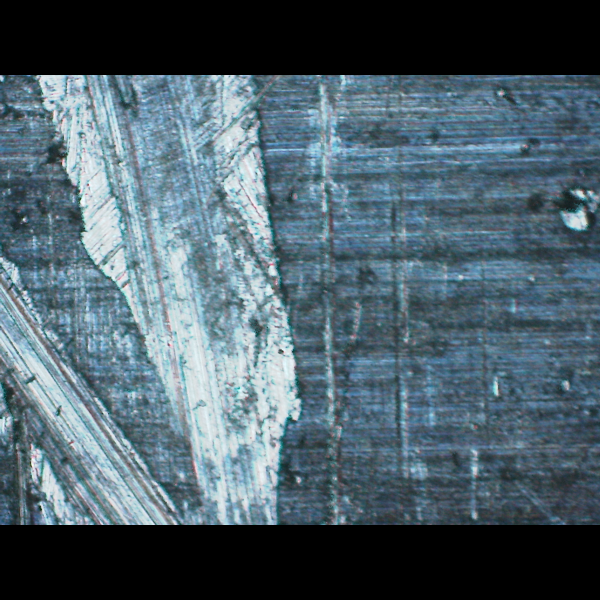d: (0, 75, 315, 522), (529, 178, 599, 241)
